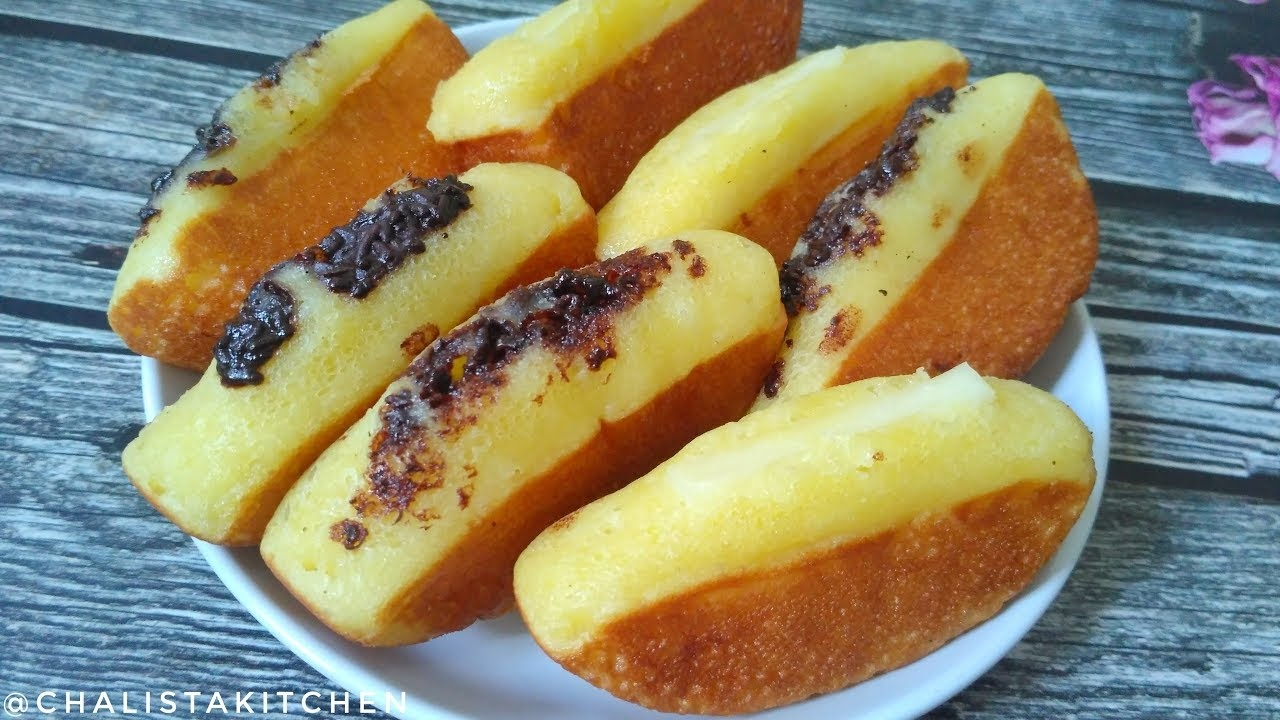pukis: (515, 312, 1144, 720)
